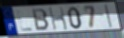0: (67, 6, 83, 30)
7: (83, 5, 98, 30)
B: (31, 8, 51, 32)
H: (48, 7, 69, 32)
I: (104, 4, 114, 29)
L: (16, 10, 34, 33)
